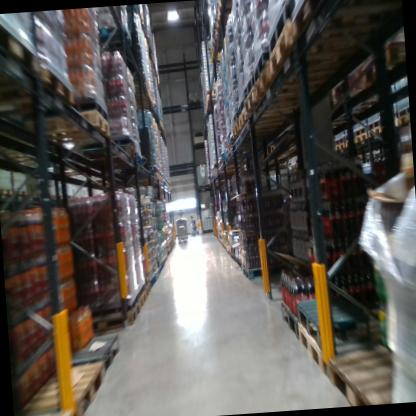pallet: (266, 13, 391, 75), (295, 287, 373, 360), (329, 345, 416, 407), (252, 51, 356, 102), (290, 0, 404, 44), (24, 359, 111, 416), (0, 60, 84, 117), (14, 106, 115, 152), (55, 333, 126, 381), (0, 12, 46, 82), (238, 97, 317, 133), (243, 78, 312, 116), (85, 300, 142, 334), (230, 112, 289, 144), (90, 23, 130, 60), (300, 323, 327, 372), (77, 145, 140, 166), (242, 255, 292, 281), (88, 154, 145, 172), (279, 300, 298, 346), (213, 0, 245, 27), (209, 30, 245, 50), (16, 406, 85, 416), (205, 49, 246, 62), (379, 118, 400, 137), (130, 287, 147, 310), (355, 126, 370, 152), (204, 92, 223, 108), (367, 121, 381, 142), (397, 111, 410, 130), (343, 136, 357, 150), (229, 132, 238, 147), (264, 142, 275, 154), (144, 282, 153, 296), (334, 142, 345, 153), (238, 257, 246, 272), (224, 141, 232, 155), (233, 253, 239, 265)
